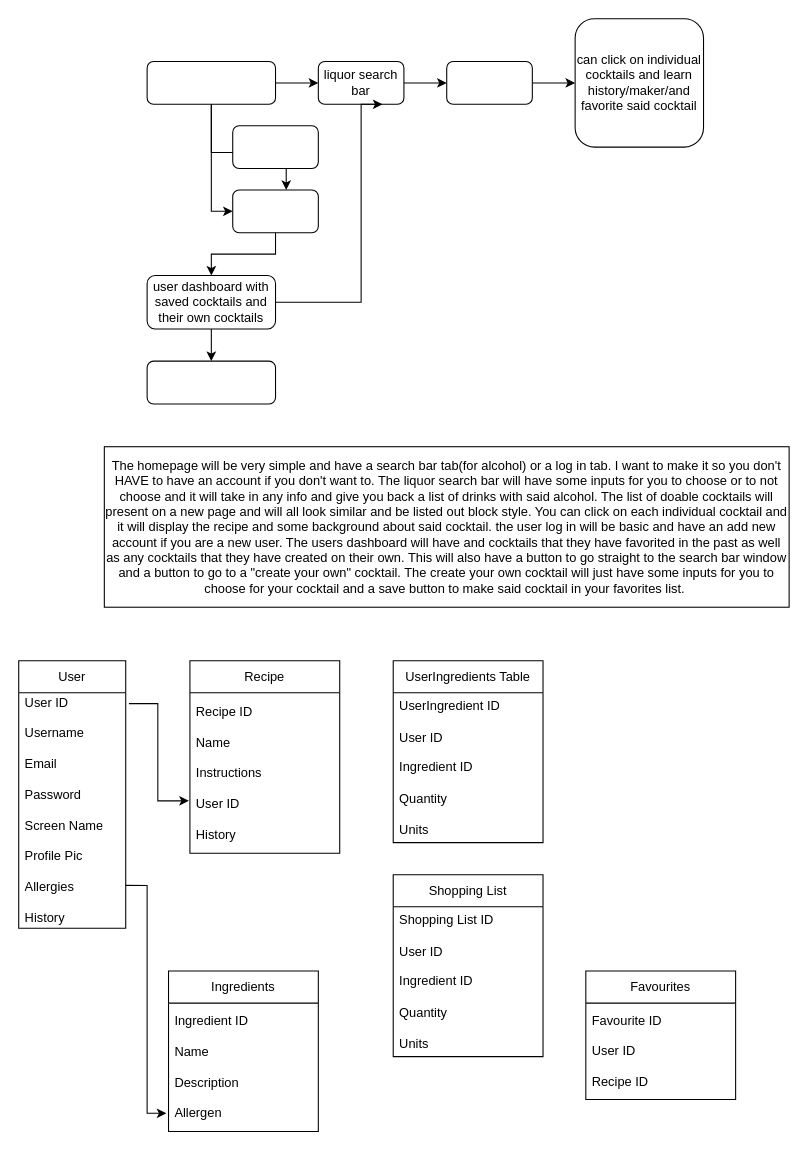
The diagram is 808 pixels wide and 1150 high, and some of its shapes have lost their labels. The shapes that lost their labels are listed below. From the top down, each one's centre as x and y in pixels, then its label:
At point (211, 82): "Homepage".
At point (489, 82): "list of doable cocktails".
At point (275, 147): "create new account".
At point (275, 211): "user log in".
At point (211, 382): "create new cocktail".
